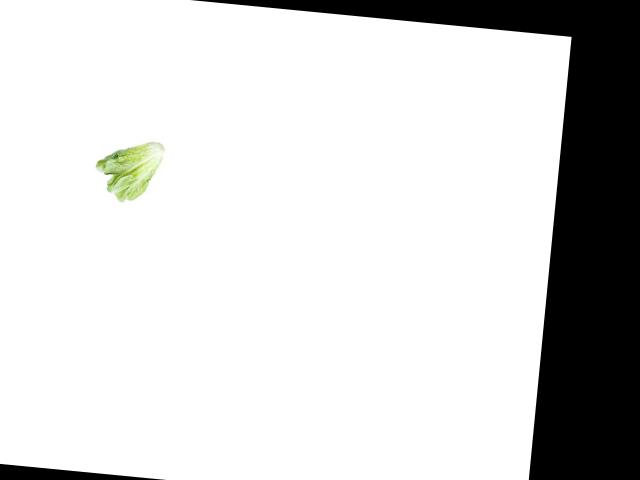lettuce: (92, 135, 167, 214)
